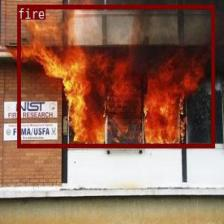fire: (17, 4, 214, 146)
